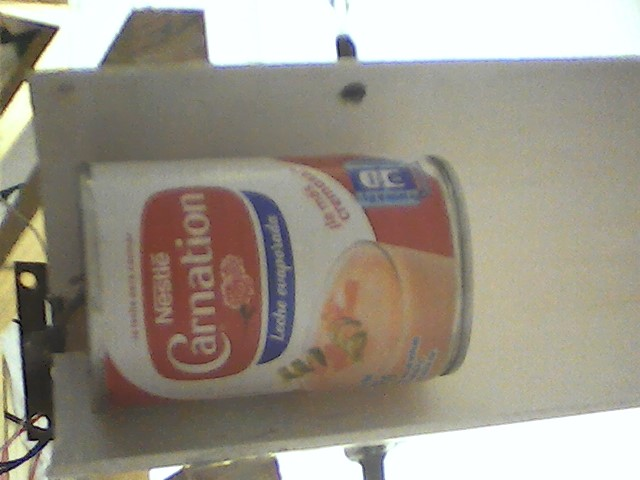lata: (72, 151, 483, 413)
